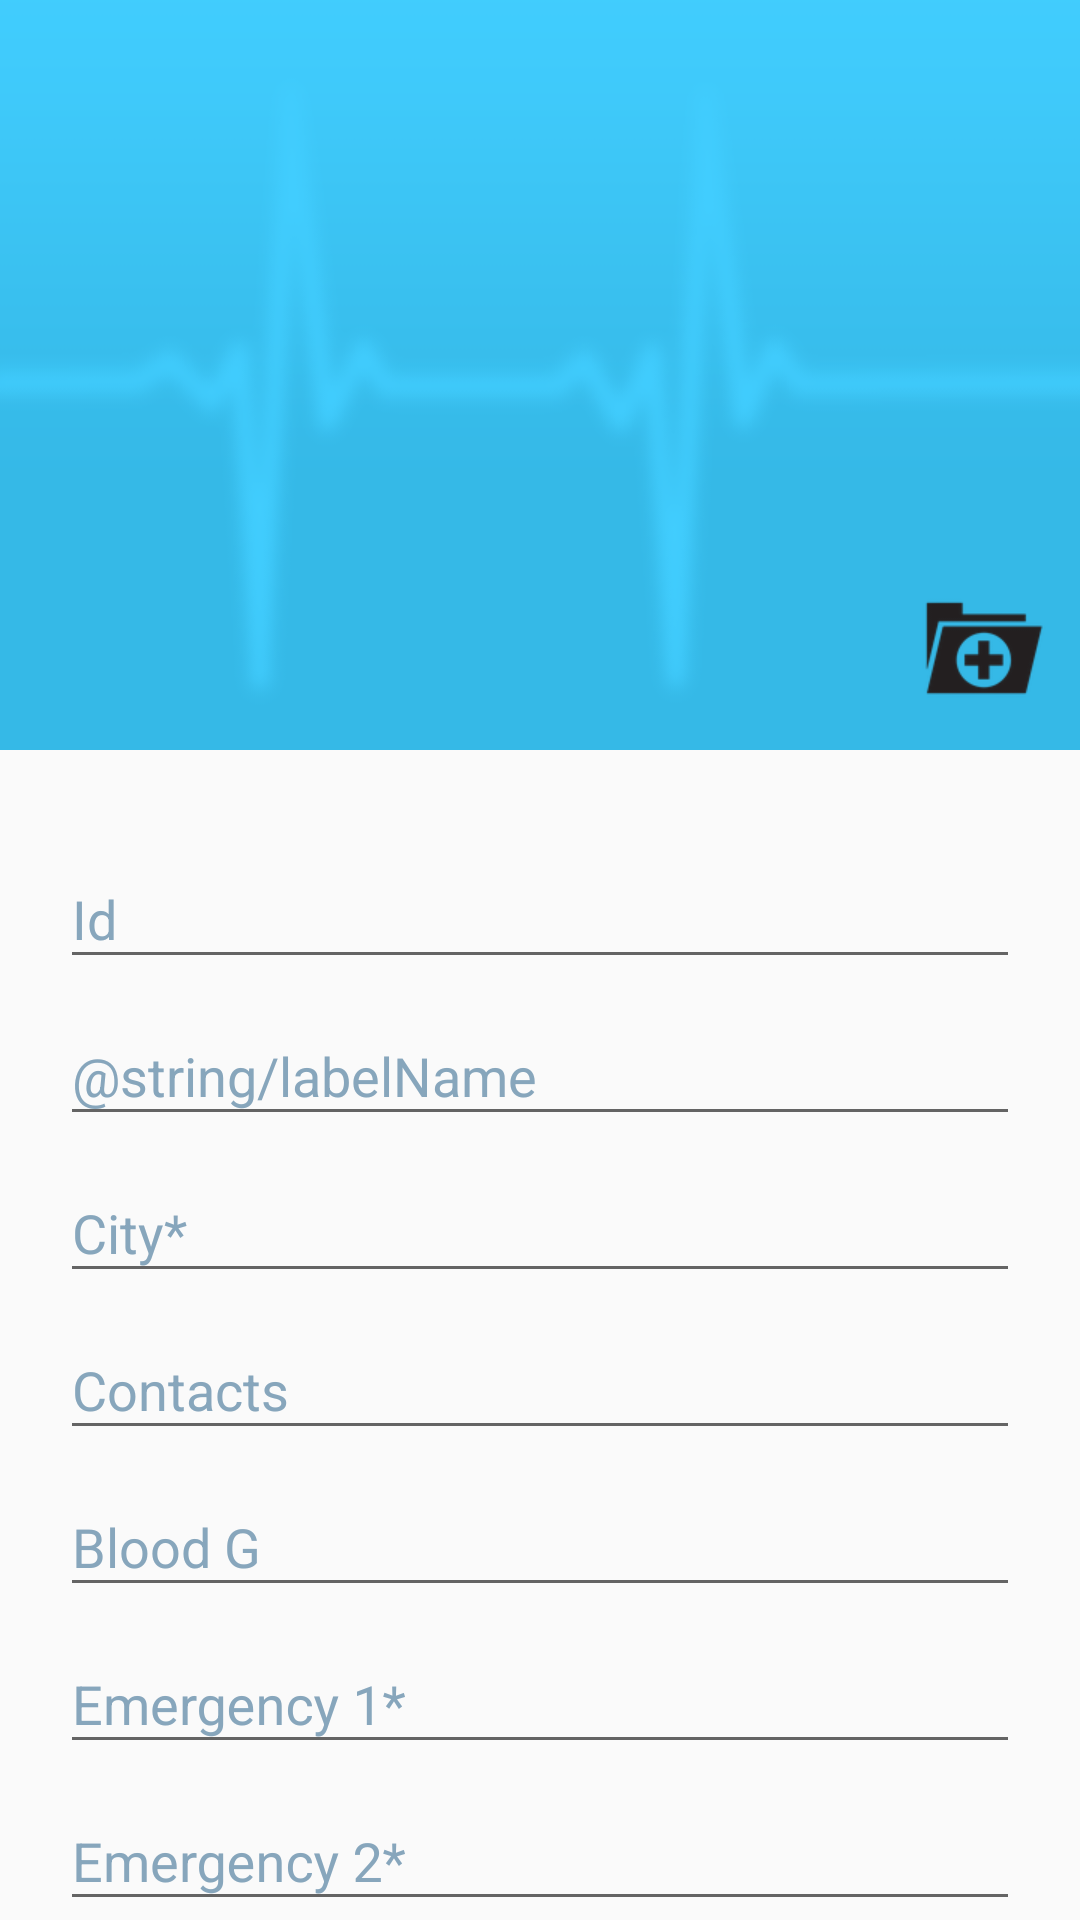

Screen size 1080 × 1920. Icon name, then its box in pixels as detection(x1, y1, x2, y2):
record: detection(926, 602, 1043, 694)
